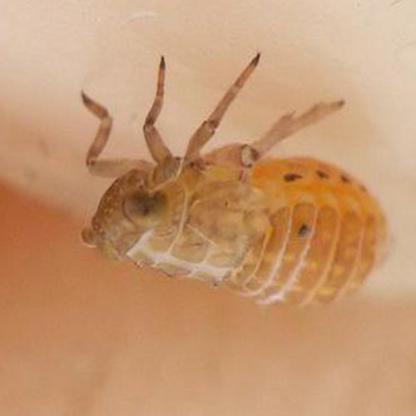brown-planthopper: (81, 140, 388, 314)
